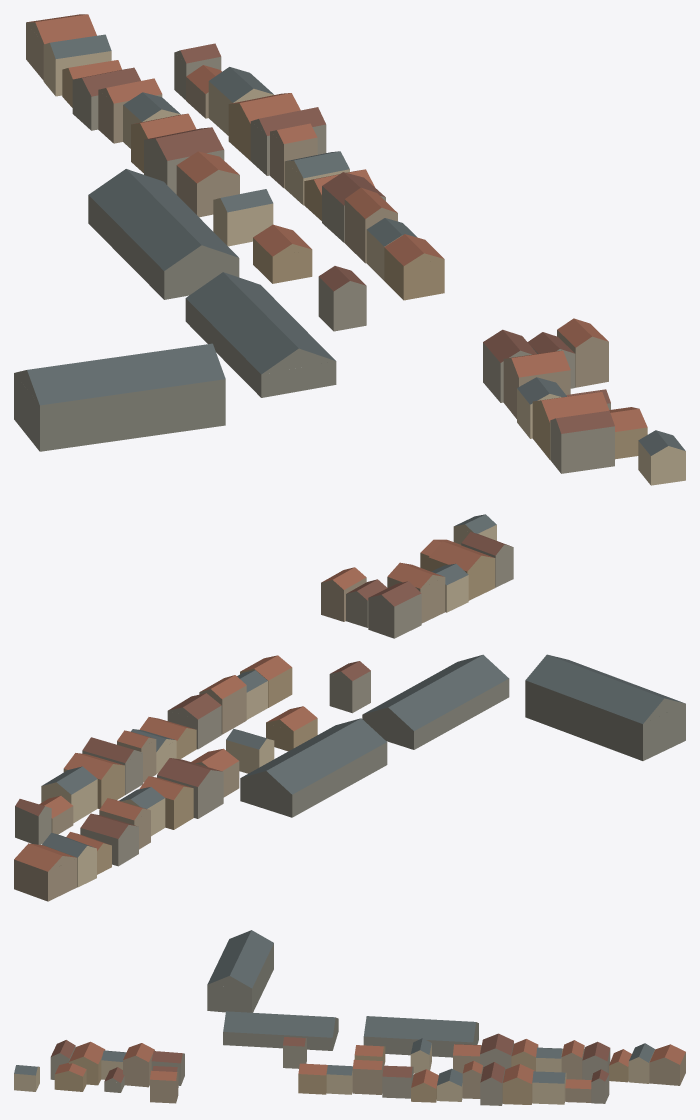
3 renders of one model, top to bottom at view 1: azimuth 30°, elevation 25°; view 2: azimuth 150°, elevation 25°; view 3: azimuth 270°, elevation 25°, orthographic. The views are drawn at different scales.
Visible parts, largest first — view 1: C_-4_3; view 2: C_-4_3; view 3: C_-4_3.
Boxes of the visible parts, x1,y1,x2,y2 form: C_-4_3: (14,14,685,485); C_-4_3: (14,514,685,901); C_-4_3: (14,930,685,1105).
Size of the model in its own units: 138 by 16.92 by 278.
